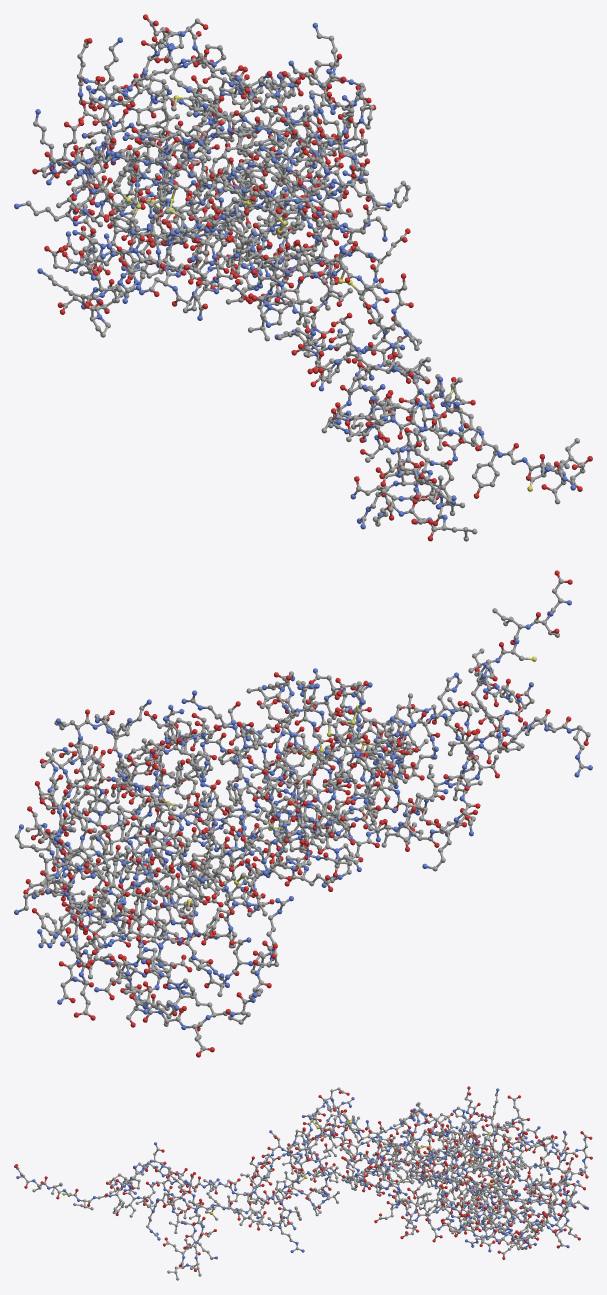
Rendered from influenza-bas.glb.
3 views of the same model, one above another, from view 1: azimuth 30°, elevation 25°; view 2: azimuth 150°, elevation 25°; view 3: azimuth 270°, elevation 25° (orthographic). The views are drawn at different scales.
Visible parts, largest first — view 1: influenza-bas; view 2: influenza-bas; view 3: influenza-bas.
Part boxes in pixels (x1,y1,x2,y2): influenza-bas: (14, 14, 592, 541); influenza-bas: (14, 570, 592, 1057); influenza-bas: (14, 1086, 592, 1280).
Size of the model in its own units: 43.7 by 41.82 by 122.
